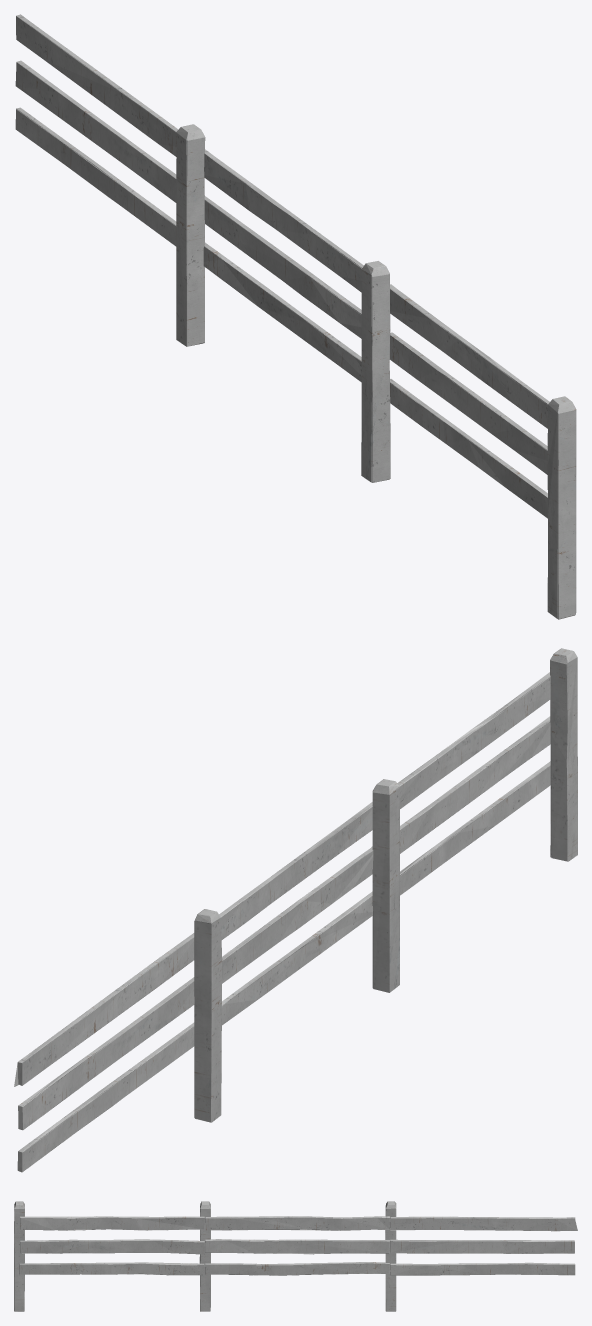
File: SM_Fence_A.fbx
The picture shows the model from 3 angles, top to bottom: view 1: azimuth 30°, elevation 25°; view 2: azimuth 150°, elevation 25°; view 3: azimuth 270°, elevation 25°; orthographic projection. The views are drawn at different scales.
Visible parts, largest first — view 1: SM_Fence_A; view 2: SM_Fence_A; view 3: SM_Fence_A.
Boxes of the visible parts, <box> form: SM_Fence_A: <box>15,14,576,619</box>; SM_Fence_A: <box>14,648,577,1172</box>; SM_Fence_A: <box>14,1201,577,1311</box>.
Size of the model in its own units: 15.14 by 580 by 121.
1 material, 1 textured.
